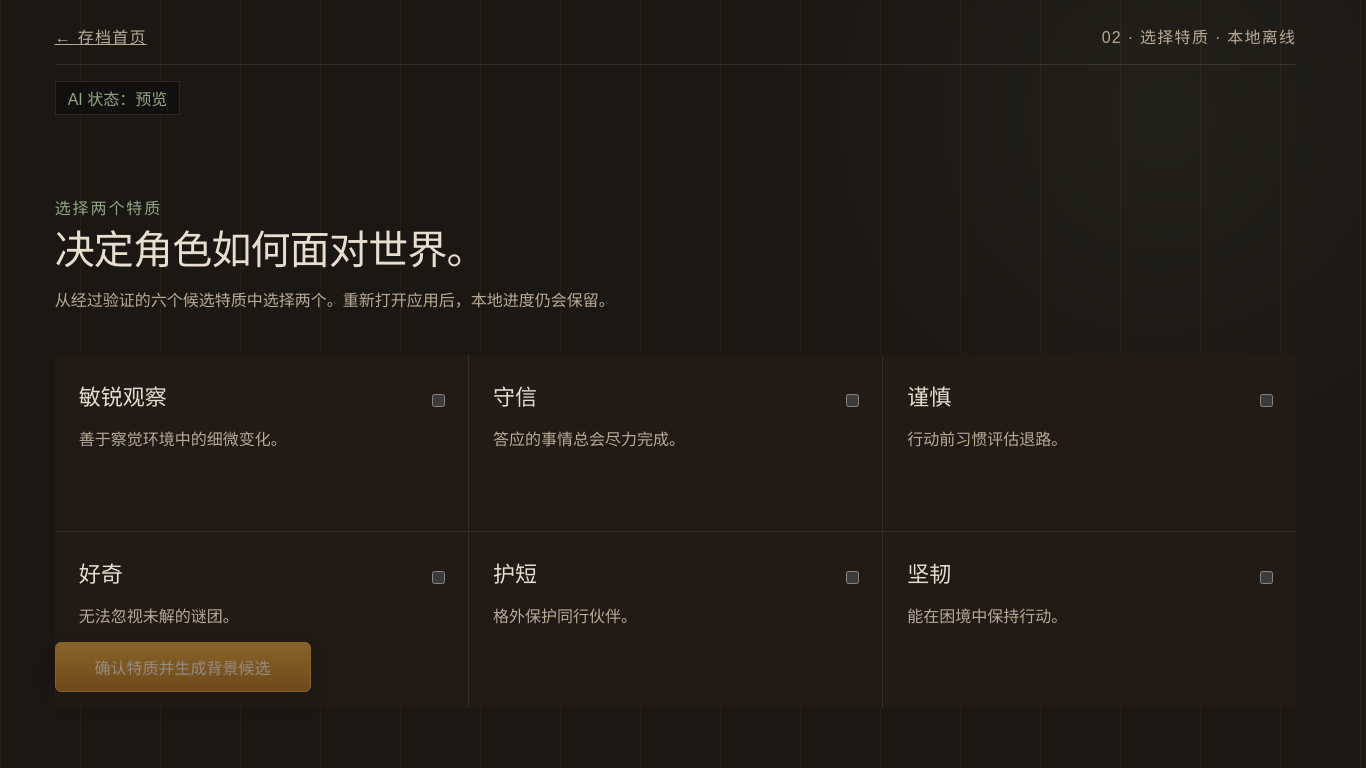
Test: character creation page › restores persisted trait candidates and prevents selecting more than two
expect the heading "决定角色如何面对世界。" is shown: met, box [55,228,486,273]
Click the checkbox labelled "敏锐观察 善于察觉环境中的细微变化。" at (438, 400), box [432,378,445,423]
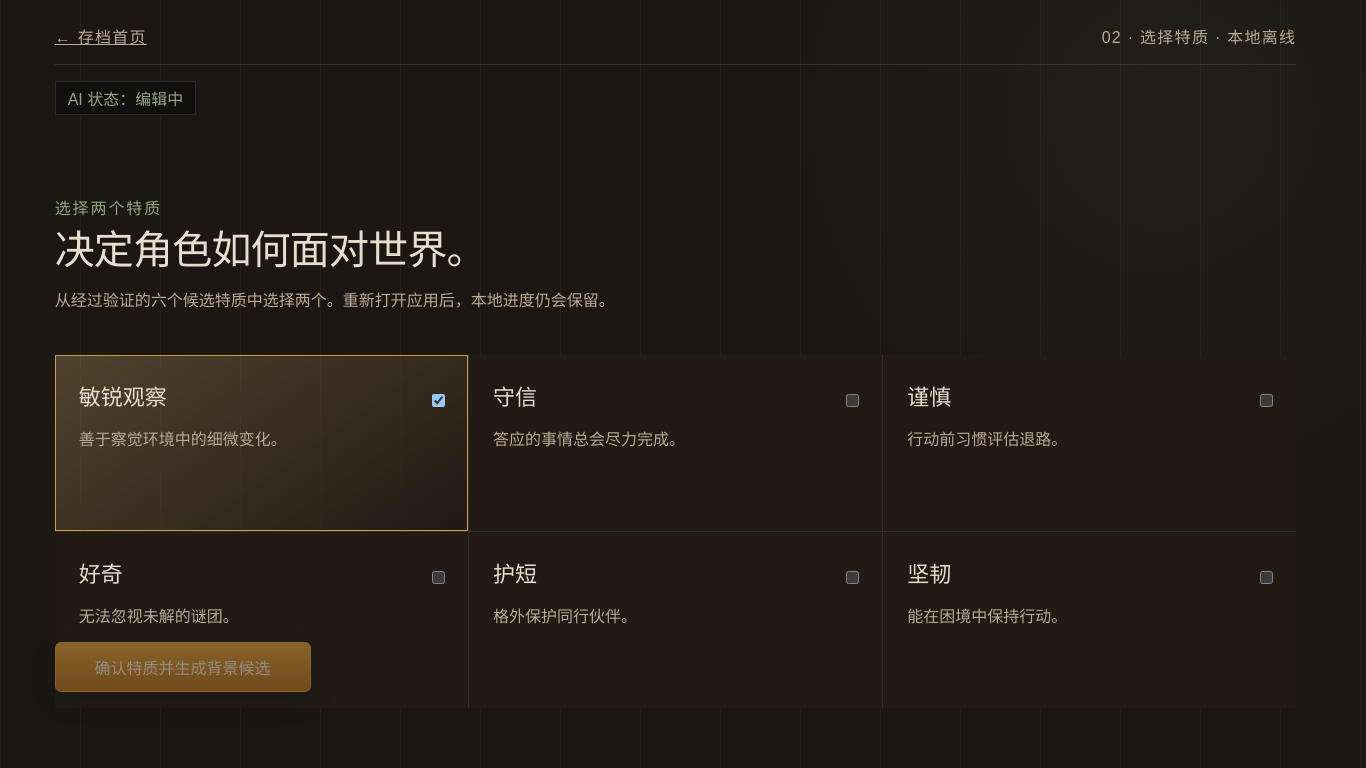
Click the checkbox labelled "守信 答应的事情总会尽力完成。" at (853, 400), box [846,378,859,423]
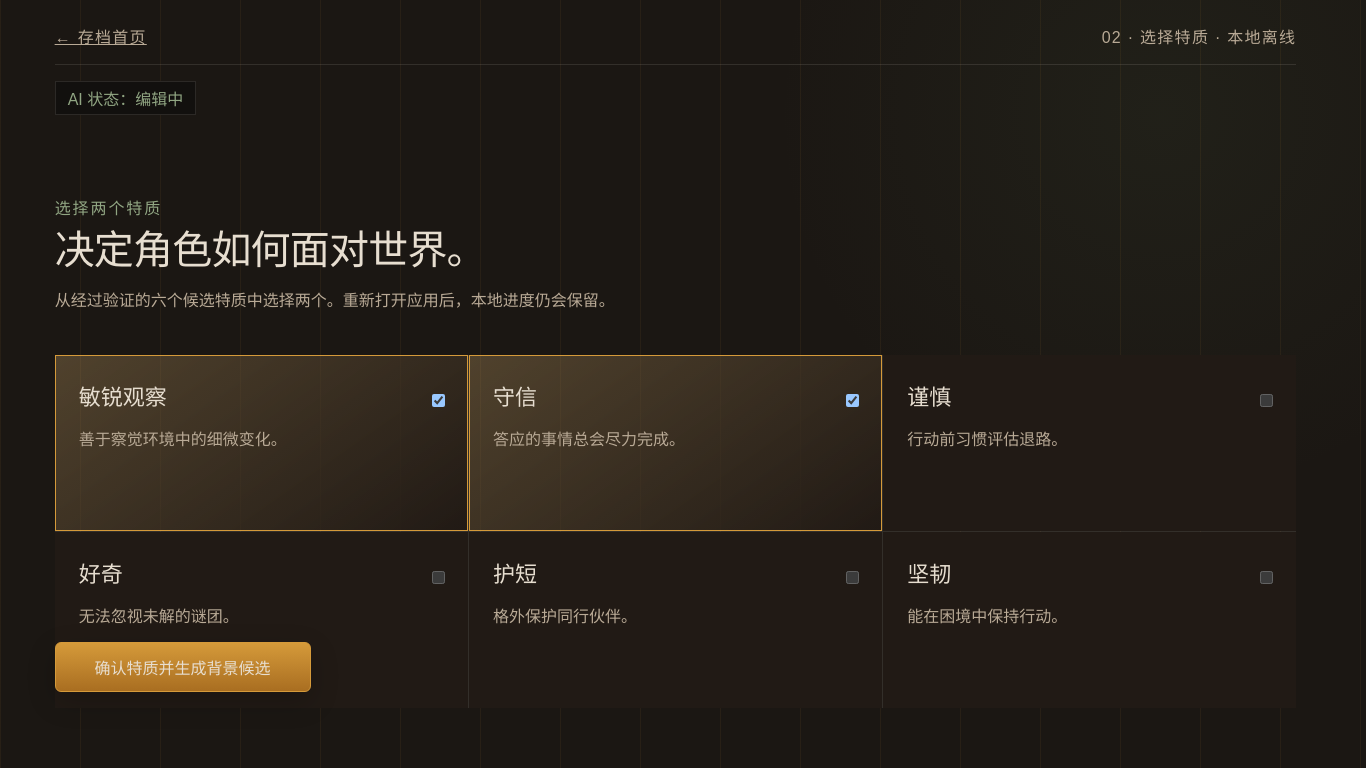
expect the checkbox labelled "谨慎 行动前习惯评估退路。" is disabled: met, box [1260,378,1273,423]
